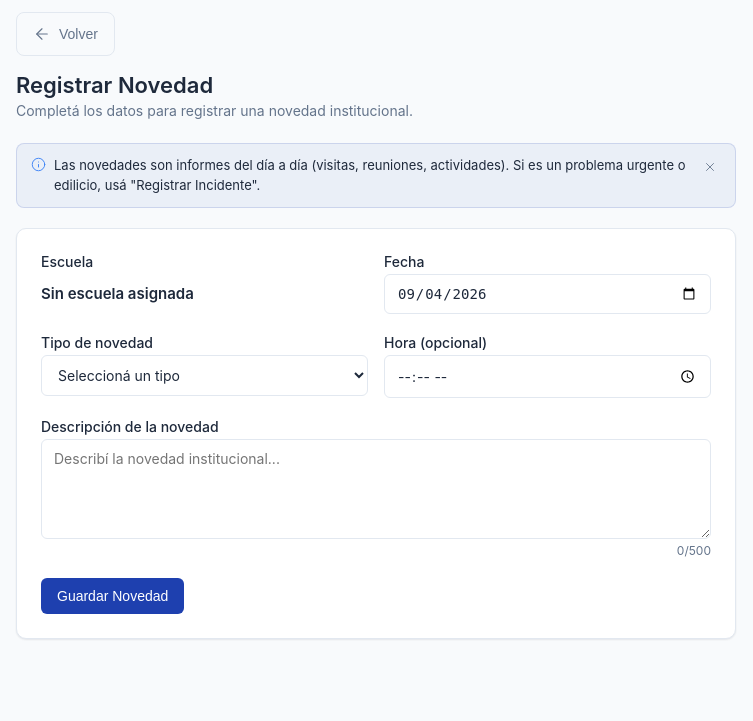
Novedades › avisa si el perfil no tiene escuela asignada en vez de guardar en silencio
The width and height of the screenshot is (753, 721).
Select "Otro" in the dropdown labelled "Tipo de novedad". click: (204, 376)
box: [41,355,368,396]
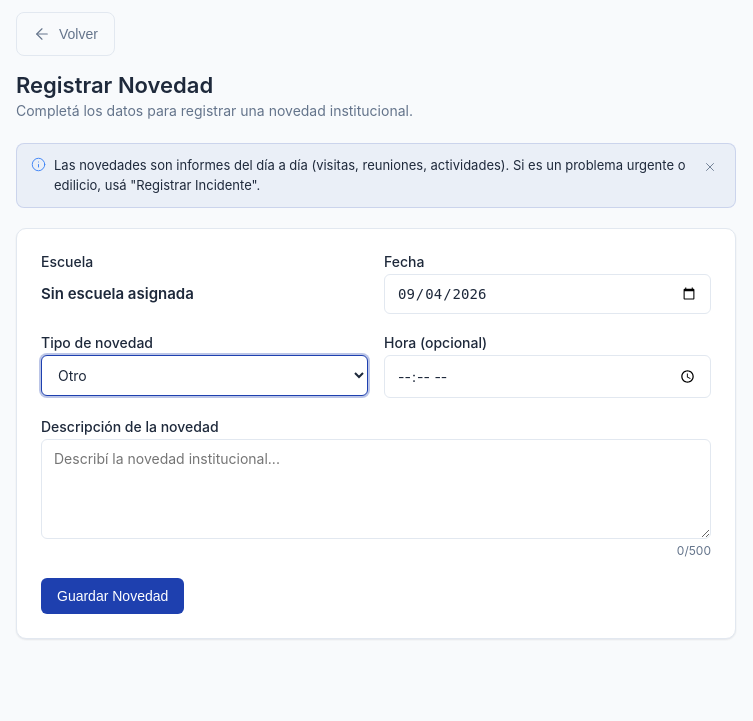
Type "Novedad sin escuela" into the text box with placeholder "Describí la novedad institucional...". click: (376, 489)
box: [41,439,711,539]
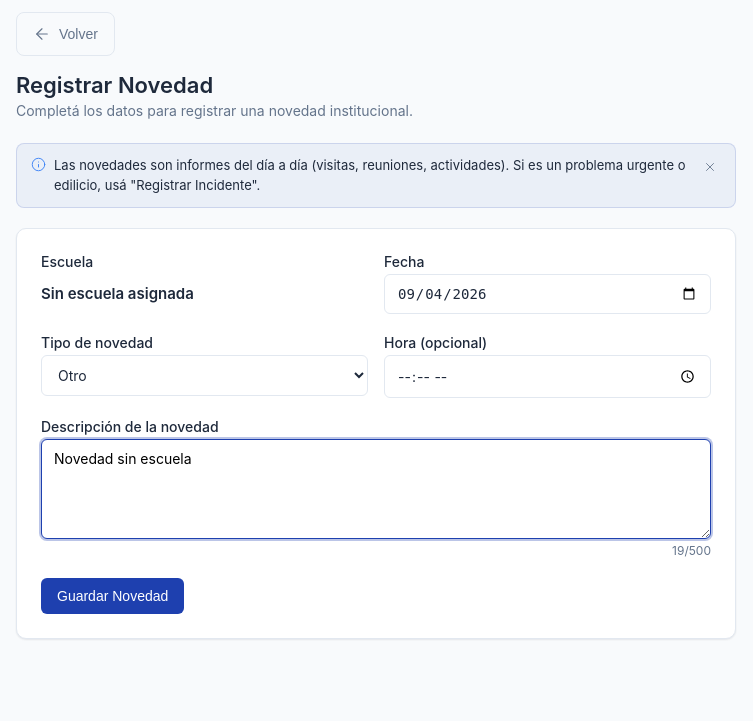
Click the button "Guardar Novedad". click: (113, 596)
box: [41,578,184,614]
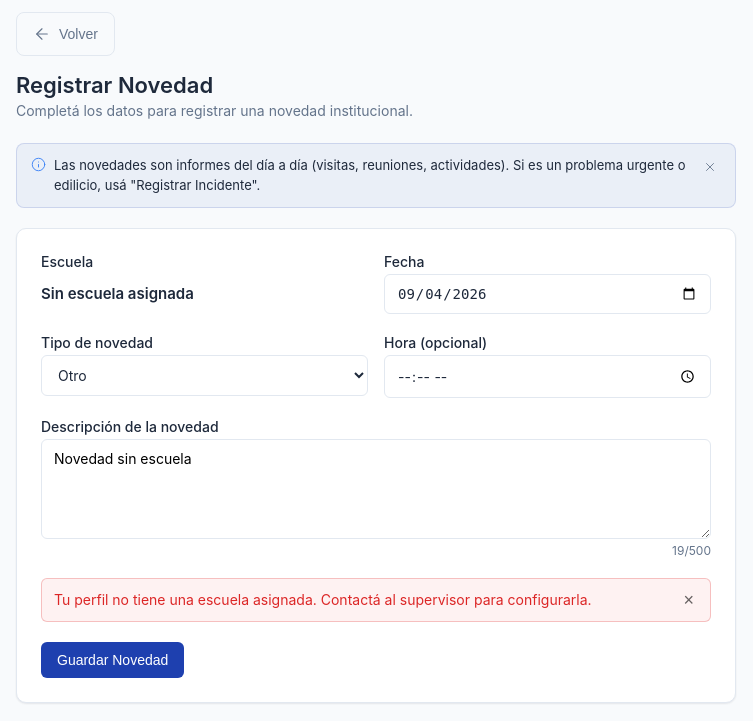
Now the text "Tu perfil no tiene una escuela asignada" is shown, box [54,591,592,608]
